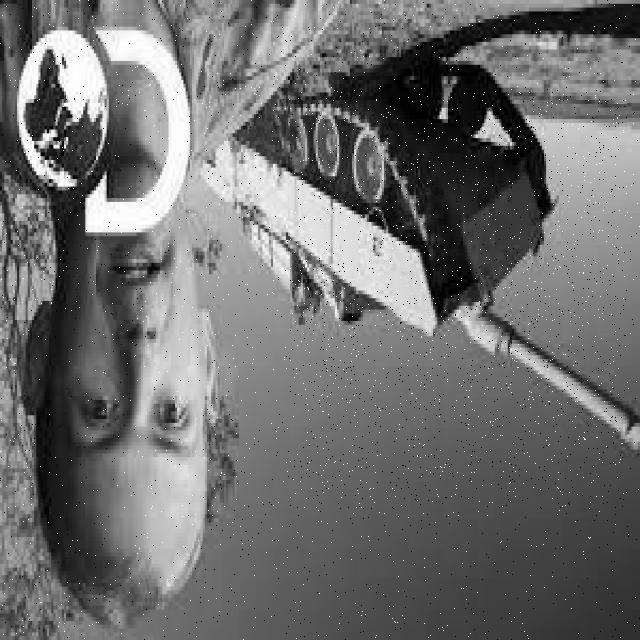MIL_MBT: (290, 91, 627, 508)
